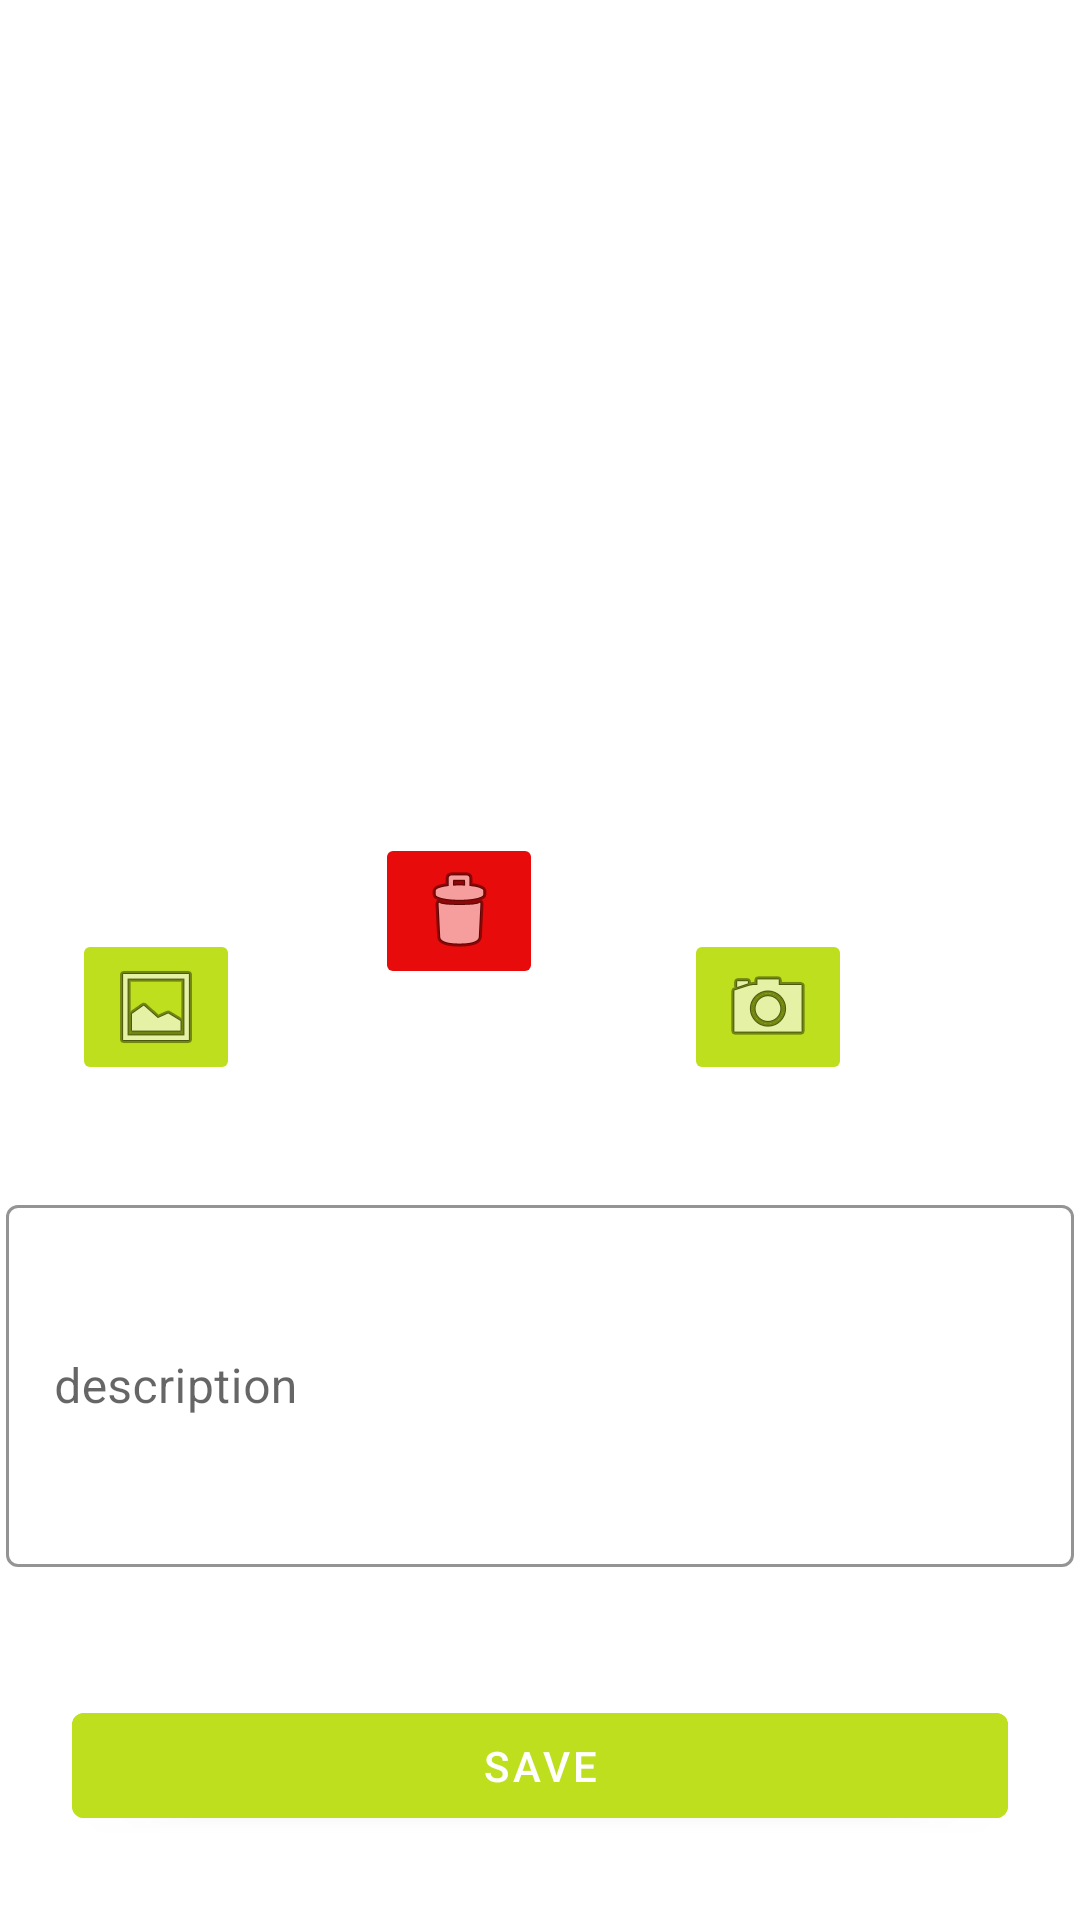

Icons on this 1080 x 1920 Android screen, each with the point to tap as point (x, y):
camera: point (768, 1007)
delete: point (459, 911)
gallery: point (156, 1007)
